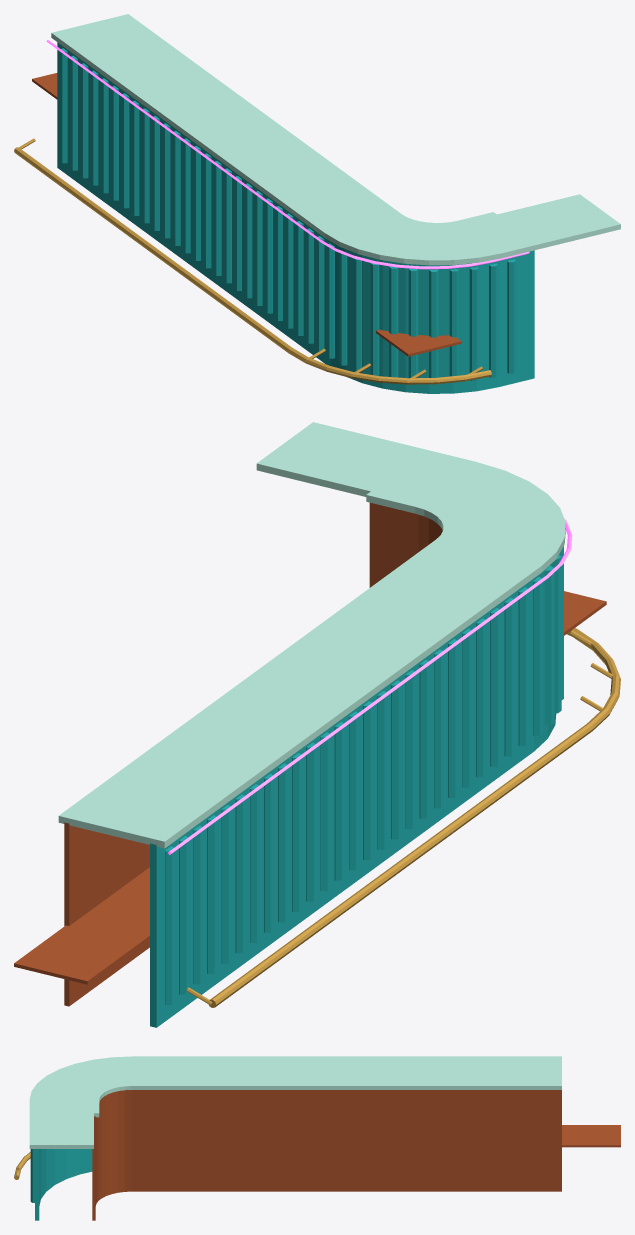
The picture shows the model from 3 angles, top to bottom: view 1: azimuth 30°, elevation 25°; view 2: azimuth 150°, elevation 25°; view 3: azimuth 270°, elevation 25°; orthographic projection. The views are drawn at different scales.
Visible parts, largest first — view 1: bar_top, bar_front, foot_rail, staff_flap_top, glow_strip, staff_shelf, flute_29, flute_34, flute_36, flute_35, flute_2, flute_6 (+31 smaller); view 2: bar_top, bar_front, bar_back_panel, staff_shelf, staff_flap_top, foot_rail, glow_strip, flute_25, flute_12, flute_0, flute_19, flute_10 (+24 smaller); view 3: bar_back_panel, bar_top, staff_flap_top, bar_front, staff_shelf, flute_36.
Boxes of the visible parts, x1=… form: bar_top: x1=51, y1=14, x2=537, y2=265; bar_front: x1=57, y1=42, x2=534, y2=393; foot_rail: x1=14, y1=147, x2=491, y2=384; staff_flap_top: x1=497, y1=194, x2=620, y2=249; glow_strip: x1=46, y1=40, x2=529, y2=269; staff_shelf: x1=32, y1=73, x2=461, y2=356; flute_29: x1=370, y1=263, x2=379, y2=375; flute_34: x1=469, y1=267, x2=478, y2=381; flute_36: x1=507, y1=259, x2=515, y2=373; flute_35: x1=489, y1=263, x2=497, y2=377; flute_2: x1=80, y1=63, x2=88, y2=178; flute_6: x1=121, y1=93, x2=129, y2=208; bar_top: x1=58, y1=450, x2=565, y2=848; bar_front: x1=150, y1=563, x2=556, y2=1027; bar_back_panel: x1=64, y1=502, x2=442, y2=1006; staff_shelf: x1=14, y1=591, x2=606, y2=984; staff_flap_top: x1=256, y1=422, x2=426, y2=496; foot_rail: x1=208, y1=628, x2=620, y2=1007; glow_strip: x1=168, y1=519, x2=572, y2=854; flute_25: x1=518, y1=587, x2=529, y2=745; flute_12: x1=334, y1=722, x2=345, y2=880; flute_0: x1=165, y1=846, x2=175, y2=1004; flute_19: x1=434, y1=649, x2=444, y2=808; flute_10: x1=306, y1=742, x2=316, y2=901; bar_back_panel: x1=92, y1=1090, x2=561, y2=1220; bar_top: x1=29, y1=1056, x2=561, y2=1117; staff_flap_top: x1=29, y1=1113, x2=93, y2=1148; bar_front: x1=35, y1=1149, x2=92, y2=1220; staff_shelf: x1=562, y1=1125, x2=620, y2=1147; flute_36: x1=30, y1=1149, x2=34, y2=1202.
Bounding box in the file's own units: 2.26 × 1.1 × 5.64.
